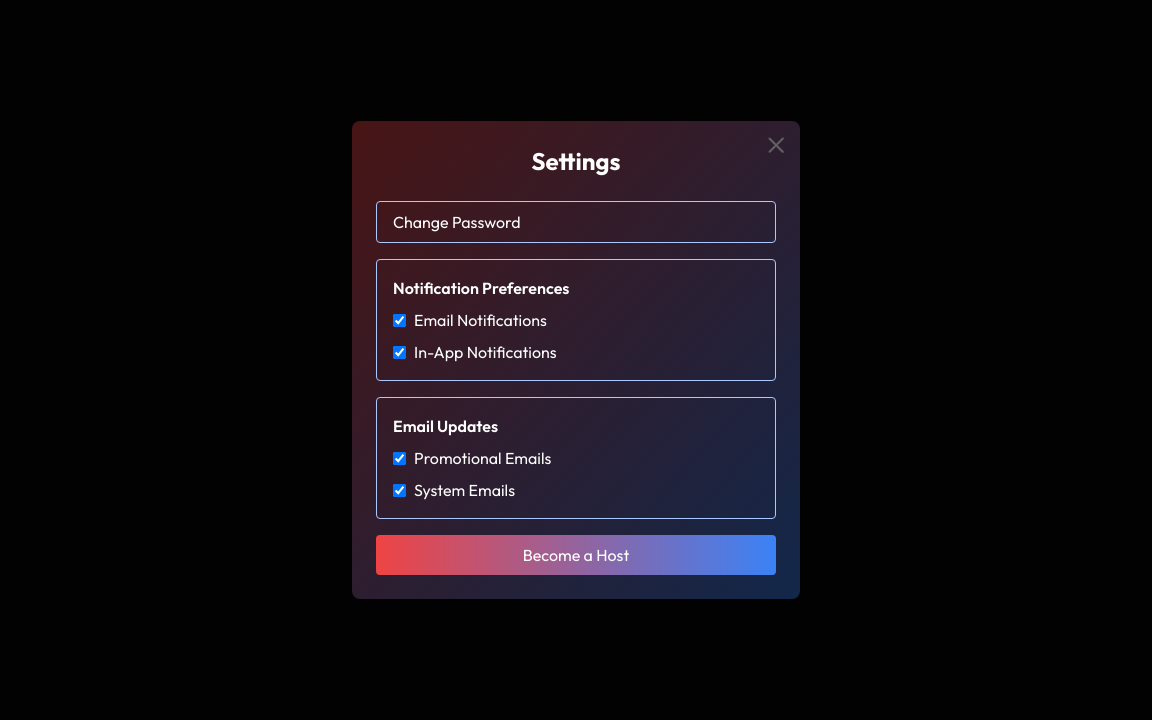
SettingsModal › opens confirmation view on toggle click
Step 1. Click the button "Become a Host" → {"x": 576, "y": 555}, box [376,535,776,575]
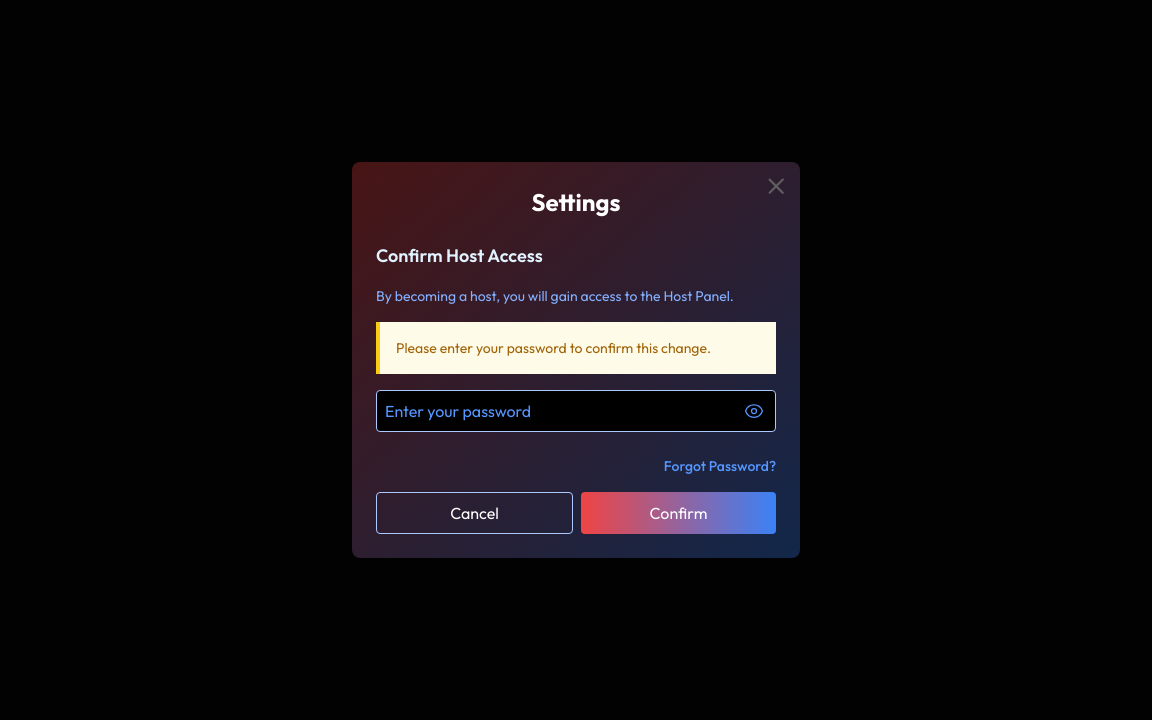
Now the heading "Confirm Host Access" is shown, box [376,244,543,267]
Now the password field with placeholder "Enter your password" is shown, box [376,390,776,432]
